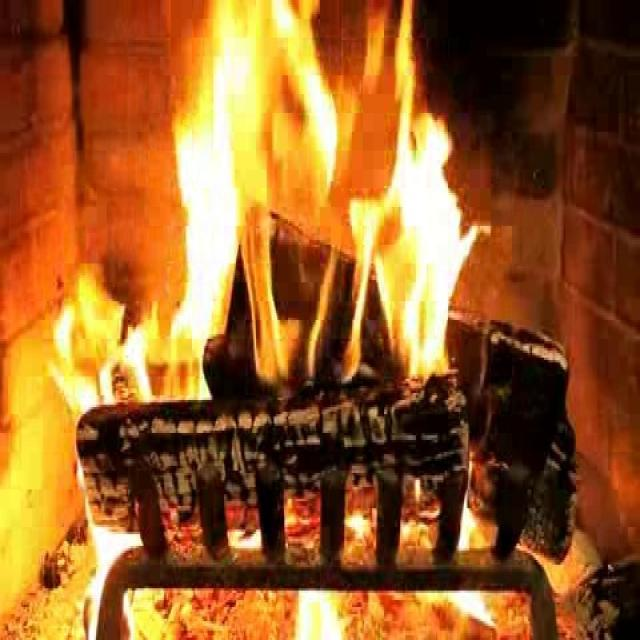Fire: (178, 9, 456, 387)
